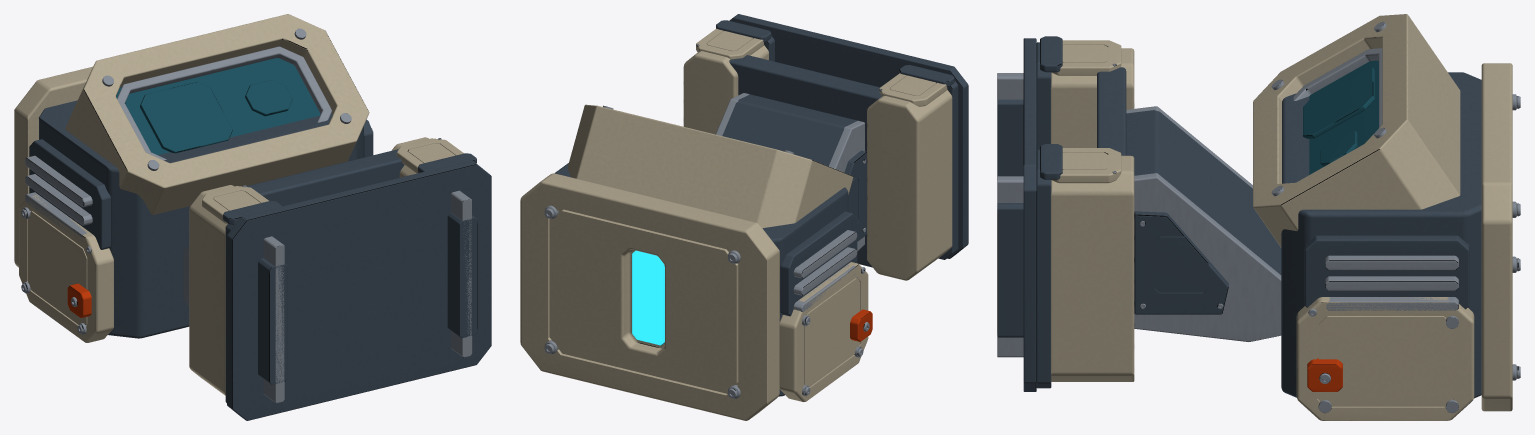
The model's file is SoilSensor.fbx.
3 renders of one model, left to right at view 1: azimuth 30°, elevation 25°; view 2: azimuth 150°, elevation 25°; view 3: azimuth 270°, elevation 25°, orthographic. The views are drawn at different scales.
Parts seen in each view (by area): view 1: adapter_WheeledCarrier_top, nose_armour, sensor_body, service_cassette, foot_armour, optical_dark_recess, detection_window, bridge_upper, roof_armour, adapter_WheeledCarrier_clamp.001, nose_recess_trim, adapter_WheeledCarrier_clamp (+12 smaller); view 2: roof_armour, nose_armour, foot_armour, service_cassette, adapter_WheeledCarrier_top, bridge_upper, fixed_sloping_web, foot_armour.001, roof_status_window, cooler_back, sensor_body, foot_end_guard (+10 smaller); view 3: nose_armour, service_cassette.001, foot_armour.001, sensor_body, roof_armour, fixed_web_side_rib.001, fixed_sloping_web, web_inset_panel.001, cooler_back.001, adapter_WheeledCarrier_top, foot_armour, adapter_WheeledCarrier_clamp.001 (+19 smaller).
Part boxes in pixels (x1,y1,x2,y2): adapter_WheeledCarrier_top: (227, 160, 491, 420); nose_armour: (65, 14, 369, 214); sensor_body: (38, 100, 363, 338); service_cassette: (19, 194, 113, 342); foot_armour: (189, 185, 234, 395); optical_dark_recess: (116, 58, 320, 155); detection_window: (140, 82, 232, 153); bridge_upper: (246, 149, 404, 206); roof_armour: (14, 66, 92, 267); adapter_WheeledCarrier_clamp.001: (447, 212, 477, 338); nose_recess_trim: (117, 46, 331, 160); adapter_WheeledCarrier_clamp: (258, 258, 287, 384); roof_armour: (520, 173, 779, 420); nose_armour: (567, 104, 853, 228); foot_armour: (867, 90, 952, 280); service_cassette: (779, 262, 868, 401); adapter_WheeledCarrier_top: (729, 14, 968, 258); bridge_upper: (729, 55, 881, 267); fixed_sloping_web: (722, 94, 857, 166); foot_armour.001: (683, 45, 768, 134); roof_status_window: (632, 250, 664, 345); cooler_back: (780, 211, 857, 316); sensor_body: (555, 163, 848, 396); foot_end_guard: (879, 73, 947, 106); nose_armour: (1253, 14, 1460, 247); service_cassette.001: (1296, 297, 1474, 420); foot_armour.001: (1051, 155, 1134, 381); sensor_body: (1281, 72, 1481, 398); roof_armour: (1481, 63, 1512, 411); fixed_web_side_rib.001: (1134, 173, 1281, 341); fixed_sloping_web: (1126, 110, 1281, 274); web_inset_panel.001: (1134, 211, 1228, 314); cooler_back.001: (1304, 235, 1469, 309); adapter_WheeledCarrier_top: (1023, 38, 1036, 391); foot_armour: (1051, 48, 1134, 147); adapter_WheeledCarrier_clamp.001: (997, 203, 1023, 337).
Size of the model in its own units: 24.92 by 19.29 by 32.08.
